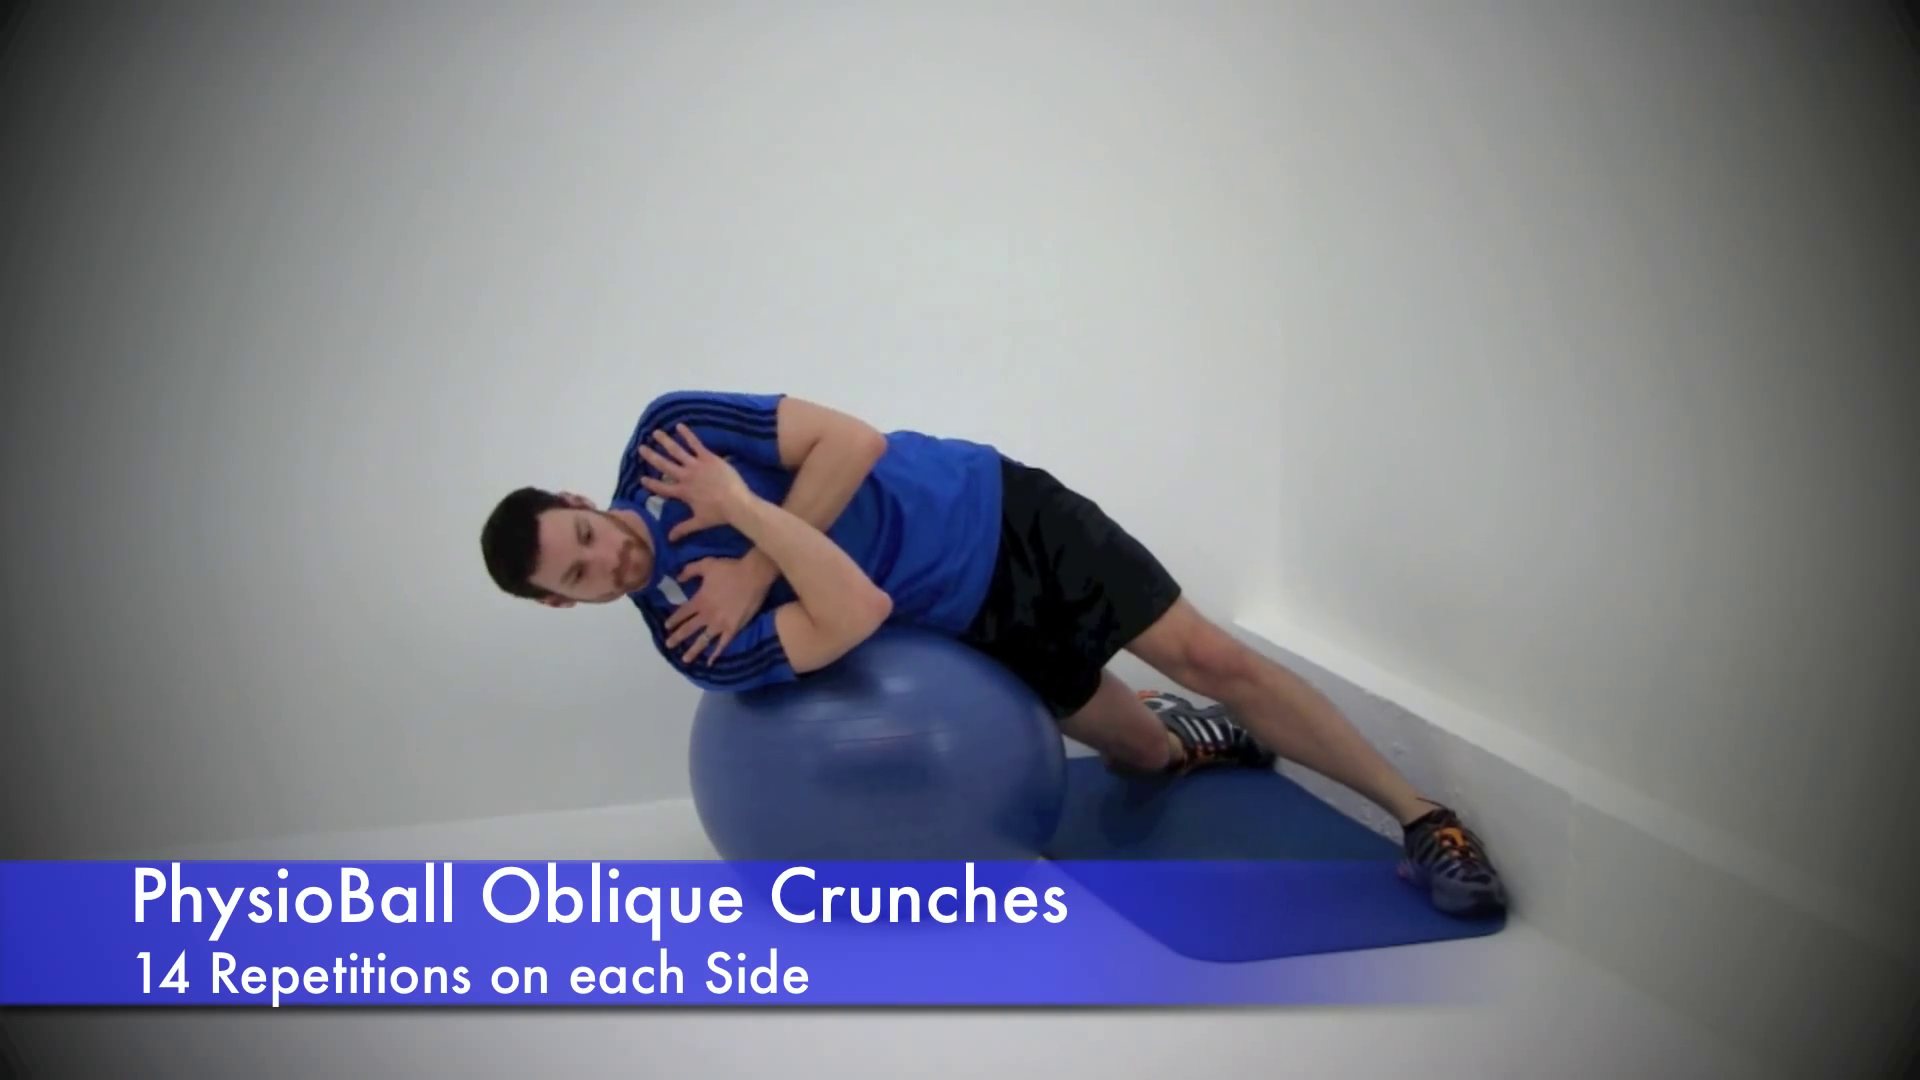yogaball: (657, 600, 1089, 935)
